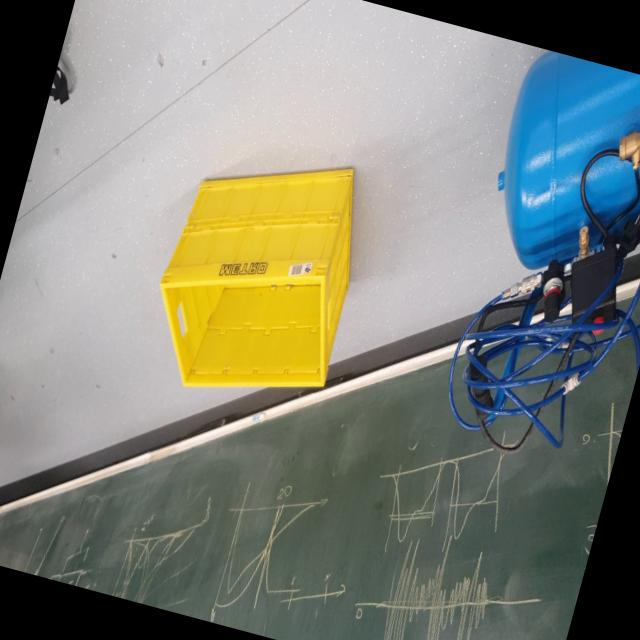box: (111, 97, 398, 456)
